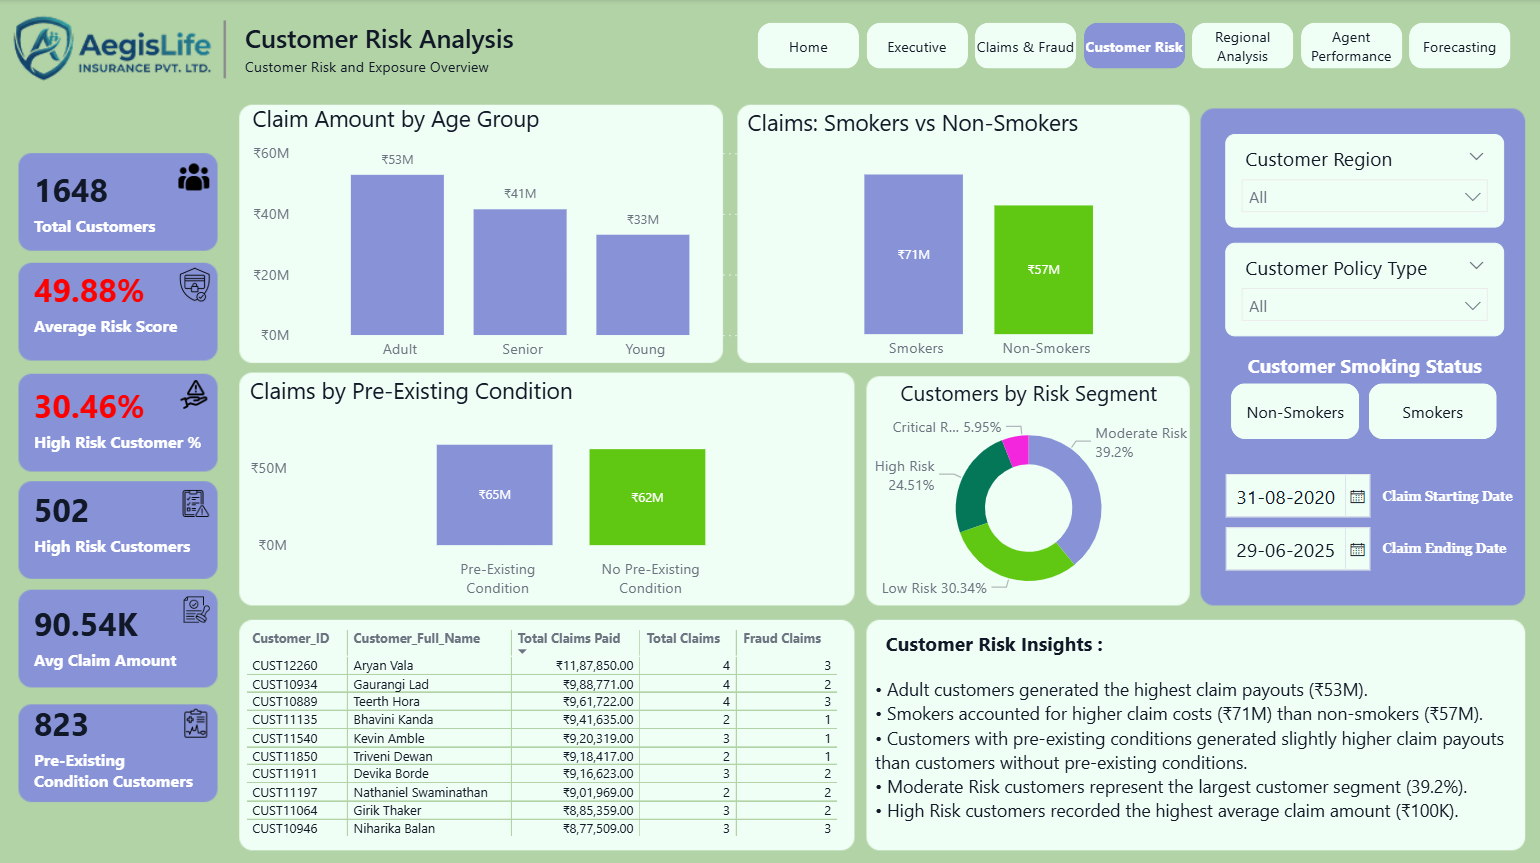

The dashboard page shown, as its layout file describes it:
{"tool":"powerbi","page":{"name":"Customer Risk","canvas":[1280,720],"ordinal":3},"visuals":[{"type":"slicer","fields":{"Values":["aegis_database master_insurance_analytics.Customer_Region"]},"box":[1016.3,111.6,231.4,77.9],"z":0},{"type":"slicer","fields":{"Values":["aegis_database master_insurance_analytics.Customer_Policy_Type"]},"box":[1016.3,201.7,231.4,77.9],"z":1000},{"type":"advancedSlicerVisual","fields":{"Values":["aegis_database master_insurance_analytics.Customer_Smoking_Status_Label"]},"box":[1016.3,291.9,231.4,77.9],"z":2000},{"type":"slicer","fields":{"Values":["aegis_database master_insurance_analytics.Claim_Date"]},"box":[1004.7,383.7,152.3,100],"z":3000},{"type":"clusteredColumnChart","title":"Claim Amount by Age Group","fields":{"Y":["Measure_Table.Total Claims Paid"],"Category":["aegis_database master_insurance_analytics.Customer_Age_Group"]},"box":[204.8,85.8,417.4,222.8],"z":4000},{"type":"donutChart","title":"Customers by Risk Segment","fields":{"Category":["aegis_database master_insurance_analytics.Customer_Risk_Segment"],"Y":["Measure_Table.Total Customers"]},"box":[713.1,314.9,281.7,192],"z":5000},{"type":"columnChart","title":"Claims by Pre-Existing Condition","fields":{"Y":["Measure_Table.Total Claims Paid"],"Category":["aegis_database master_insurance_analytics.Pre_Existing_Condition_Label"],"Series":["aegis_database master_insurance_analytics.Pre_Existing_Condition_Label"]},"box":[203.6,312.4,507,192],"z":6000},{"type":"columnChart","title":"Claims: Smokers vs Non-Smokers","fields":{"Category":["aegis_database master_insurance_analytics.Customer_Smoking_Status - Copy"],"Y":["Measure_Table.Total Claims Paid"],"Series":["aegis_database master_insurance_analytics.Customer_Smoking_Status - Copy"]},"box":[615.8,89.6,398.2,218.9],"z":7000},{"type":"textbox","box":[198.8,12.1,309.2,59.4],"z":8000},{"type":"textbox","box":[1141.9,396.5,123.3,50],"z":9000},{"type":"textbox","box":[1141.9,440.7,123.3,50],"z":10000},{"type":"textbox","box":[721.4,517.7,557.7,185.5],"z":11000},{"type":"image","box":[145.5,495.9,37.6,21.8],"z":12000},{"type":"image","box":[147.2,134.4,28.2,25.6],"z":13000},{"type":"image","box":[144.7,222.8,34.6,28.2],"z":14000},{"type":"image","box":[147.2,314.9,29.4,25.6],"z":15000},{"type":"image","box":[129.3,587.6,66.6,25.6],"z":16000},{"type":"image","box":[137,405.8,52.5,24.3],"z":17000},{"type":"cardVisual","fields":{"Data":["Measure_Table.High Risk Customers"]},"box":[0,372.6,193.3,121.6],"z":18000},{"type":"cardVisual","fields":{"Data":["Measure_Table.Avg Claim Amount"]},"box":[0,475,193.3,106.3],"z":19000},{"type":"cardVisual","fields":{"Data":["Measure_Table.High Risk Customer %"]},"box":[0,289.3,203.6,116.5],"z":20000},{"type":"cardVisual","fields":{"Data":["Measure_Table.Customers with Pre-Existing Illness"]},"box":[0,545.4,193.3,148.5],"z":21000},{"type":"cardVisual","fields":{"Data":["Measure_Table.Average Risk Score"]},"box":[0,190.8,198.4,120.3],"z":22000},{"type":"cardVisual","fields":{"Data":["Measure_Table.Total Customers"]},"box":[0,97.3,192,142.1],"z":23000},{"type":"pageNavigator","box":[628.8,20,627.5,38.8],"z":24000},{"type":"tableEx","title":"Average Claim Amount by Risk Segment","fields":{"Values":["aegis_database master_insurance_analytics.Customer_ID","aegis_database master_insurance_analytics.Customer_Full_Name","Measure_Table.Total Claims Paid","Measure_Table.Total Claims","Measure_Table.Fraud Claims"]},"box":[198.8,517.9,511.6,202.6],"z":25000}]}

Visuals, with their boxes in screenshot pixels (x1, y1, x2, y2), scaled from the page's 1280x720 canvas onto the 1540x863 screenshot:
slicer - aegis_database master_insurance_analytics.Customer_Region: l=1223, t=134, r=1501, b=227
slicer - aegis_database master_insurance_analytics.Customer_Policy_Type: l=1223, t=242, r=1501, b=335
advancedSlicerVisual - aegis_database master_insurance_analytics.Customer_Smoking_Status_Label: l=1223, t=350, r=1501, b=443
slicer - aegis_database master_insurance_analytics.Claim_Date: l=1209, t=460, r=1392, b=580
"Claim Amount by Age Group" clusteredColumnChart: l=246, t=103, r=749, b=370
"Customers by Risk Segment" donutChart: l=858, t=377, r=1197, b=608
"Claims by Pre-Existing Condition" columnChart: l=245, t=374, r=855, b=605
"Claims: Smokers vs Non-Smokers" columnChart: l=741, t=107, r=1220, b=370
textbox: l=239, t=15, r=611, b=86
textbox: l=1374, t=475, r=1522, b=535
textbox: l=1374, t=528, r=1522, b=588
textbox: l=868, t=621, r=1539, b=843
image: l=175, t=594, r=220, b=621
image: l=177, t=161, r=211, b=192
image: l=174, t=267, r=216, b=301
image: l=177, t=377, r=212, b=408
image: l=156, t=704, r=236, b=735
image: l=165, t=486, r=228, b=516
cardVisual - Measure_Table.High Risk Customers: l=0, t=447, r=233, b=592
cardVisual - Measure_Table.Avg Claim Amount: l=0, t=569, r=233, b=697
cardVisual - Measure_Table.High Risk Customer %: l=0, t=347, r=245, b=486
cardVisual - Measure_Table.Customers with Pre-Existing Illness: l=0, t=654, r=233, b=832
cardVisual - Measure_Table.Average Risk Score: l=0, t=229, r=239, b=373
cardVisual - Measure_Table.Total Customers: l=0, t=117, r=231, b=287
pageNavigator: l=757, t=24, r=1511, b=70
"Average Claim Amount by Risk Segment" tableEx: l=239, t=621, r=855, b=862
